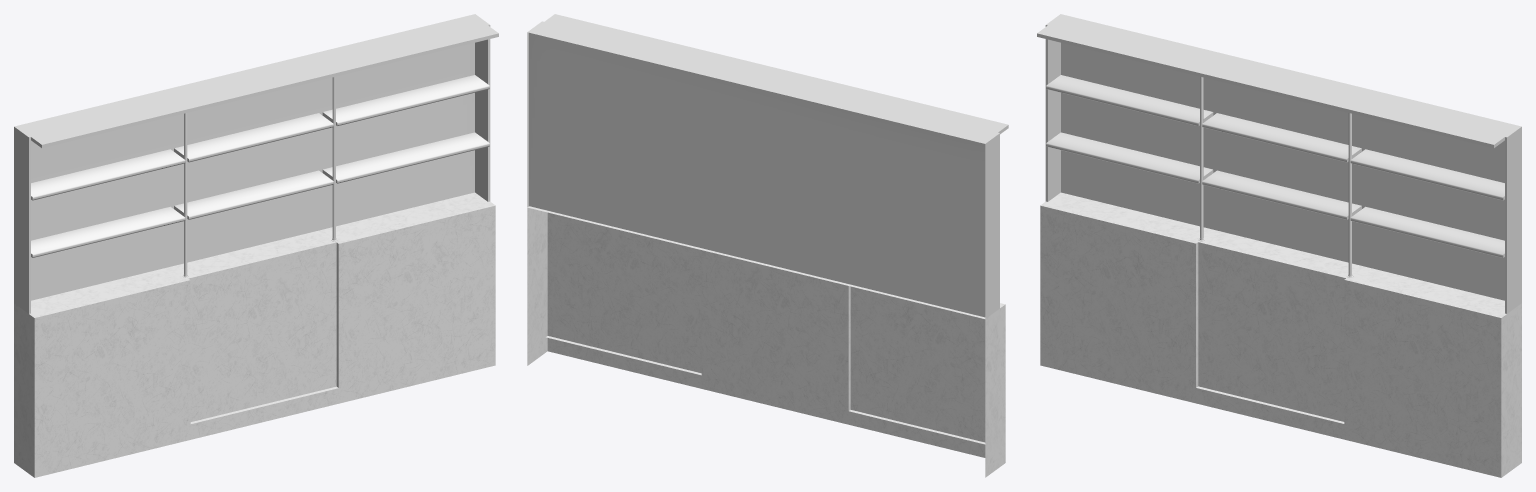
Rendered from Bar02_Rack.FBX.
The picture shows the model from 3 angles, left to right: view 1: azimuth 30°, elevation 25°; view 2: azimuth 150°, elevation 25°; view 3: azimuth 330°, elevation 25°; orthographic projection.
Parts seen in each view (by area): view 1: Bar02_Rack; view 2: Bar02_Rack; view 3: Bar02_Rack.
Part boxes in pixels (x1=…): Bar02_Rack: x1=14, y1=14, x2=498, y2=477; Bar02_Rack: x1=527, y1=14, x2=1008, y2=477; Bar02_Rack: x1=1037, y1=14, x2=1521, y2=477.
Size of the model in its own units: 347 by 242 by 33.64.
